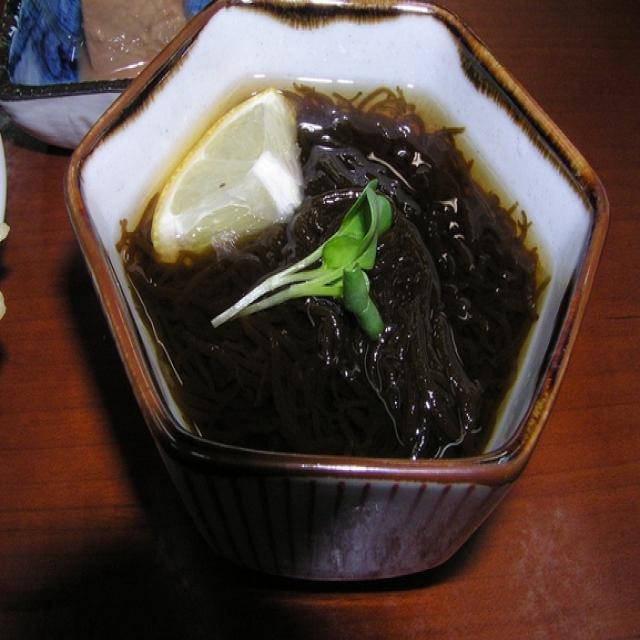蔬菜料理: (56, 2, 601, 546)
